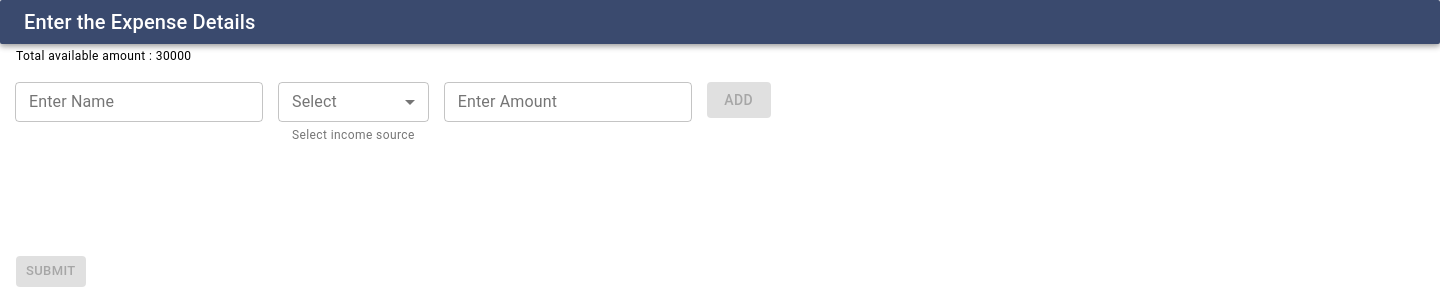
test for listItem
In the field with test id "expenseName": {"x": 139, "y": 102} [15, 82, 263, 122], type "bill"
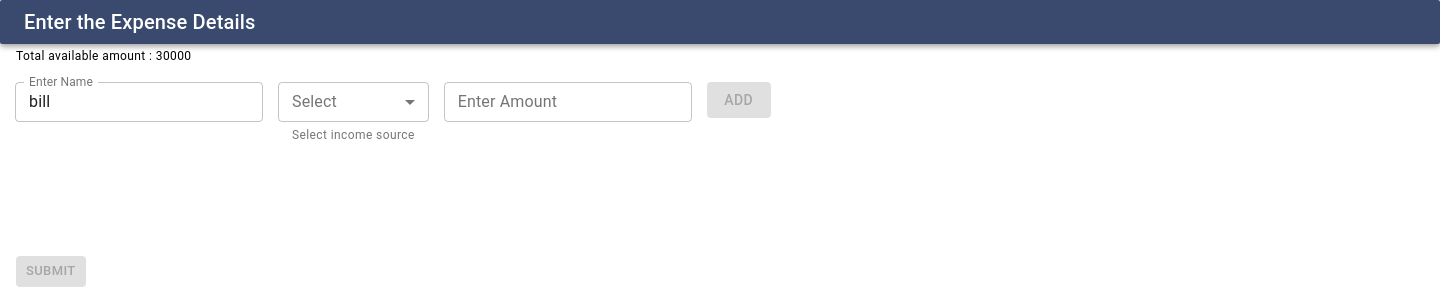
Replace the text in the field with test id "expenseSource" with "stocks": {"x": 353, "y": 102} [278, 82, 429, 122]
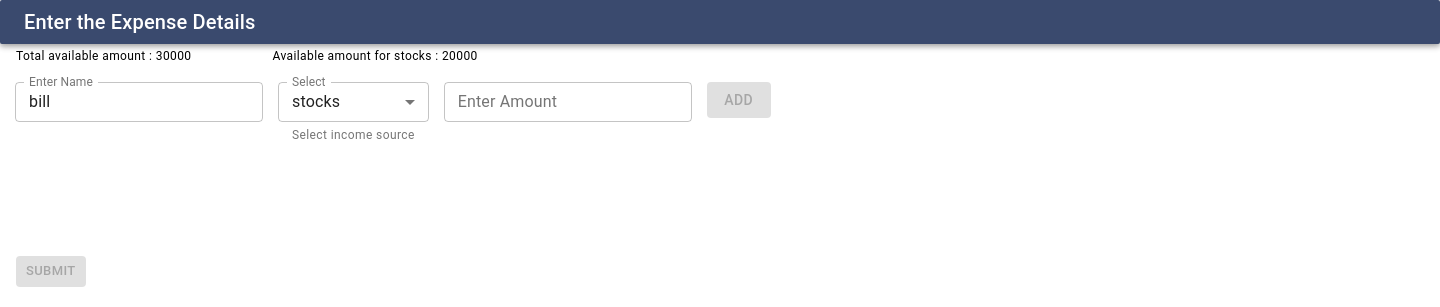
In the number field with test id "expenseAmount": {"x": 568, "y": 102} [444, 82, 692, 122], type "9000"
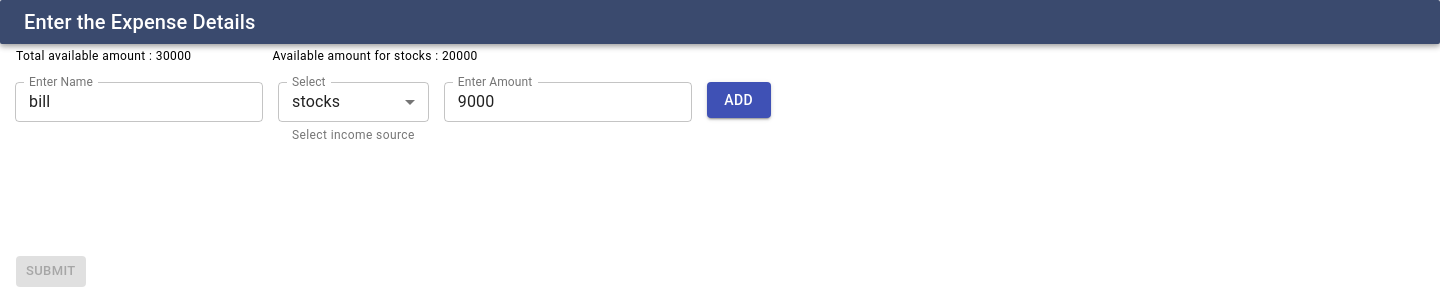
Click the button "ADD": {"x": 739, "y": 100} [707, 82, 771, 118]
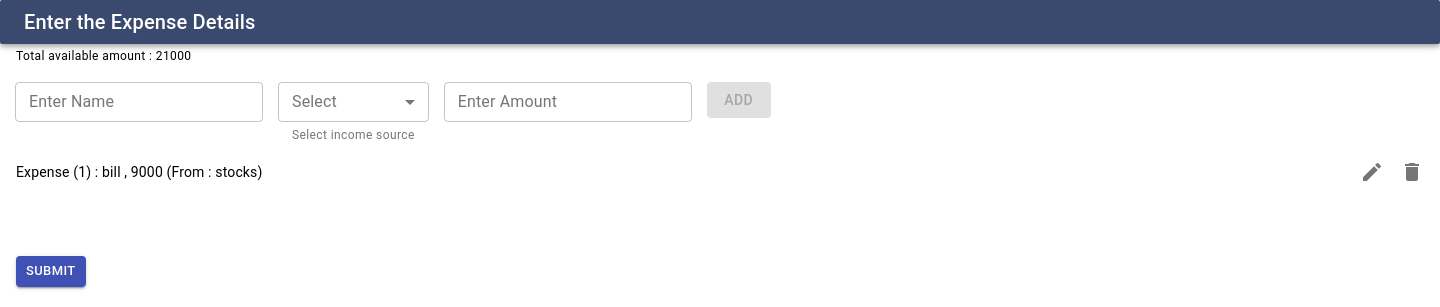
Expected: the text "Expense (1) : bill , 9000 (From : stocks)" is shown, [16, 164, 262, 180]
